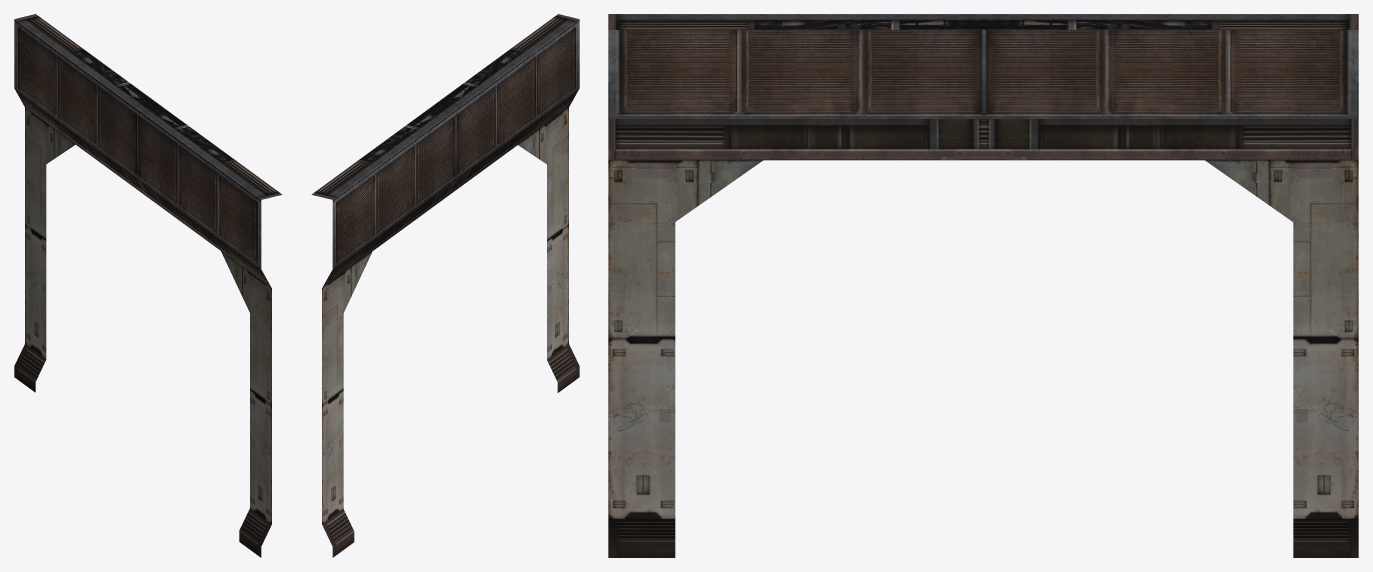
File: Wall_High_new05.fbx
3 views of the same model, side by side, from view 1: azimuth 30°, elevation 25°; view 2: azimuth 150°, elevation 25°; view 3: azimuth 270°, elevation 25° (orthographic). The views are drawn at different scales.
Parts seen in each view (by area): view 1: Wall_High_new05; view 2: Wall_High_new05; view 3: Wall_High_new05.
Part boxes in pixels (<box>): Wall_High_new05: <box>14,14,282,557</box>; Wall_High_new05: <box>311,14,579,557</box>; Wall_High_new05: <box>608,14,1358,557</box>.
Bounding box in the file's own units: 25 × 400 × 500.
